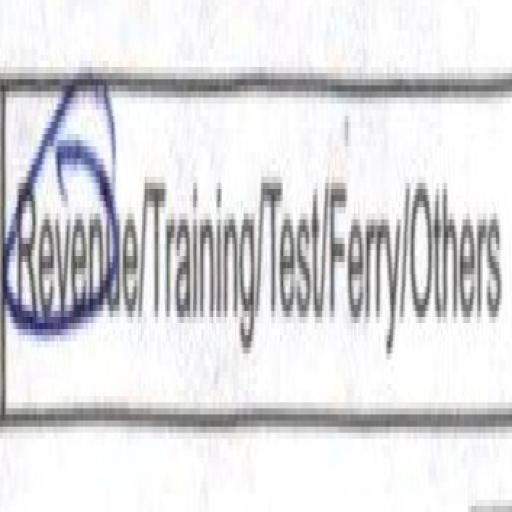check: (0, 16, 141, 418)
